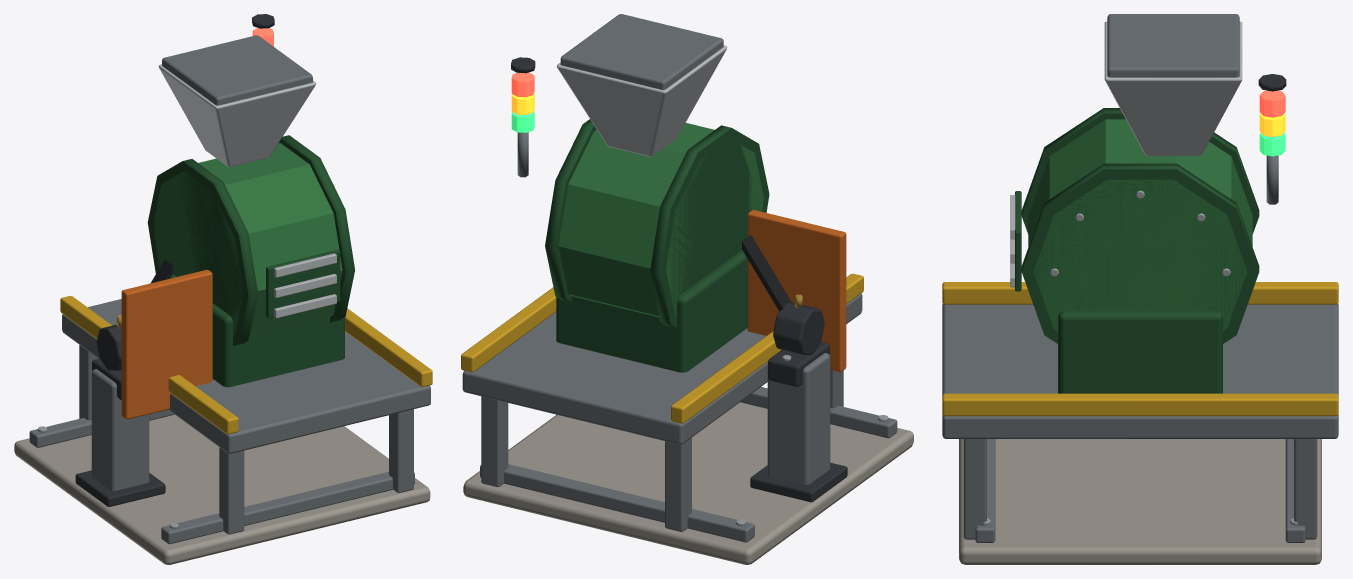
File: pp_mill.glb
3 renders of one model, left to right at view 1: azimuth 30°, elevation 25°; view 2: azimuth 150°, elevation 25°; view 3: azimuth 270°, elevation 25°, orthographic. The views are drawn at different scales.
Parts seen in each view (by area): view 1: block.001, cyl.001, block.004, block, cyl.002, cyl.003, block.011, block.012, block.017, block.002, block.009, cyl.004 (+11 smaller); view 2: block.001, cyl.001, block.004, cyl.002, block.011, block, cyl.003, block.012, block.017, block.003, block.009, cyl.004 (+8 smaller); view 3: block.001, cyl.001, block.004, block.011, cyl.004, block.010, block.012, cyl.003, block.009, cyl.002, block.005, block.007 (+7 smaller).
Boxes of the visible parts, bbox=[...] form: block.001: bbox=[14, 414, 430, 564]; cyl.001: bbox=[154, 143, 342, 336]; block.004: bbox=[62, 299, 430, 453]; block: bbox=[121, 269, 212, 419]; cyl.002: bbox=[147, 159, 257, 346]; cyl.003: bbox=[158, 64, 316, 167]; block.011: bbox=[170, 274, 344, 387]; block.012: bbox=[162, 35, 312, 105]; block.017: bbox=[91, 369, 149, 490]; block.002: bbox=[161, 472, 414, 544]; block.009: bbox=[60, 296, 238, 434]; cyl.004: bbox=[279, 135, 354, 322]; block.001: bbox=[463, 402, 913, 564]; cyl.001: bbox=[558, 123, 763, 317]; block.004: bbox=[462, 293, 862, 444]; cyl.002: bbox=[650, 125, 769, 328]; block.011: bbox=[556, 250, 747, 372]; block: bbox=[747, 210, 846, 371]; cyl.003: bbox=[556, 45, 727, 156]; block.012: bbox=[560, 14, 723, 89]; block.017: bbox=[767, 353, 830, 484]; block.003: bbox=[480, 464, 754, 542]; block.009: bbox=[671, 273, 863, 423]; cyl.004: bbox=[545, 119, 596, 302]; block.001: bbox=[959, 439, 1321, 564]; cyl.001: bbox=[1028, 119, 1252, 331]; block.004: bbox=[942, 304, 1338, 438]; block.011: bbox=[1058, 310, 1222, 393]; cyl.004: bbox=[1021, 163, 1259, 343]; block.010: bbox=[942, 393, 1338, 416]; block.012: bbox=[1107, 14, 1239, 77]; cyl.003: bbox=[1104, 21, 1242, 155]; block.009: bbox=[942, 282, 1338, 304]; cyl.002: bbox=[1021, 108, 1259, 233]; block.005: bbox=[963, 439, 986, 539]; block.007: bbox=[1294, 439, 1317, 539].
Size of the model in its own units: 1.1 by 1.56 by 1.2.
